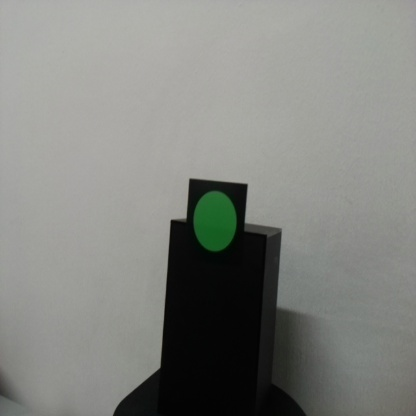id_5: (189, 180, 247, 274)
